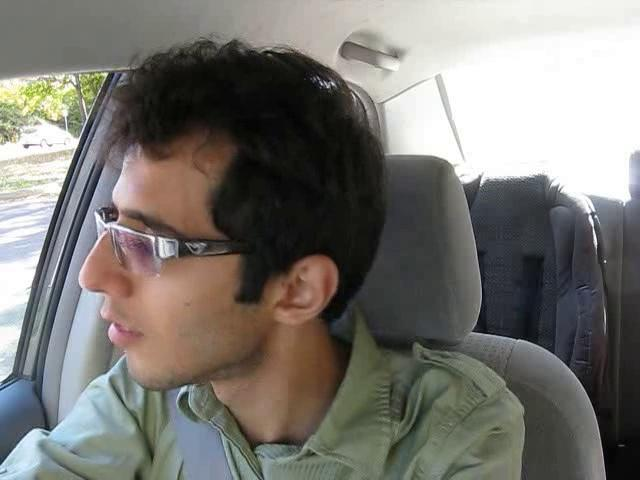no_yawn: (93, 313, 152, 351)
